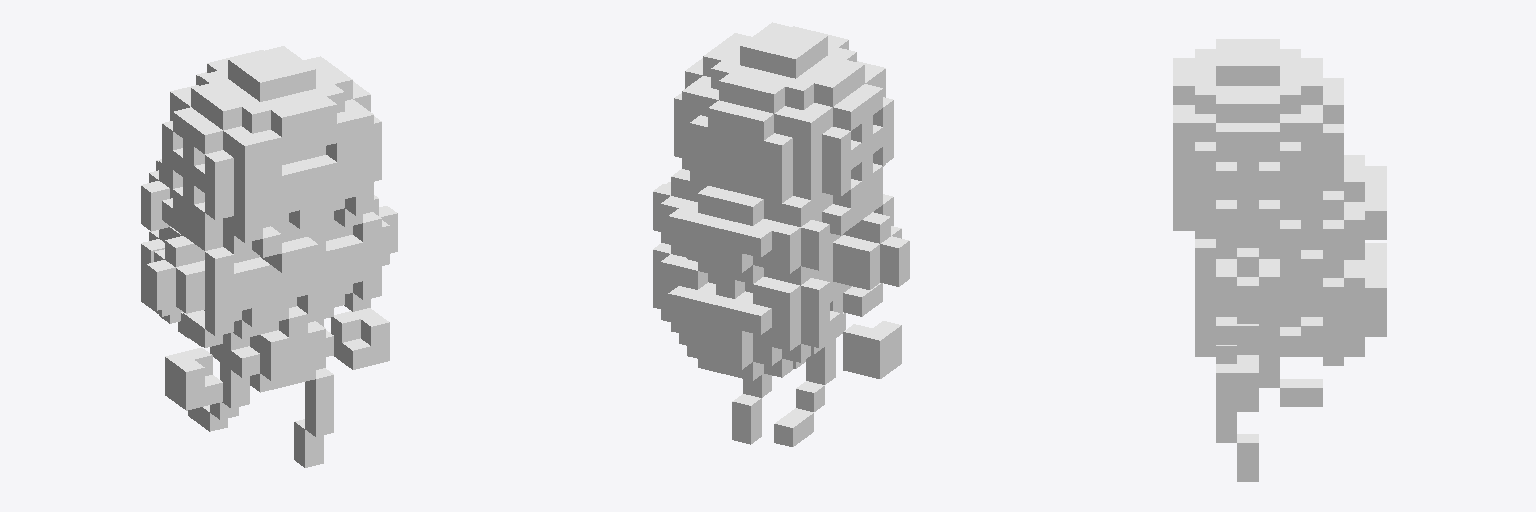
The model's file is player_walk-01.obj.
3 renders of one model, left to right at view 1: azimuth 30°, elevation 25°; view 2: azimuth 150°, elevation 25°; view 3: azimuth 270°, elevation 25°, orthographic.
Bounding box in the file's own units: 13 × 21 × 10.